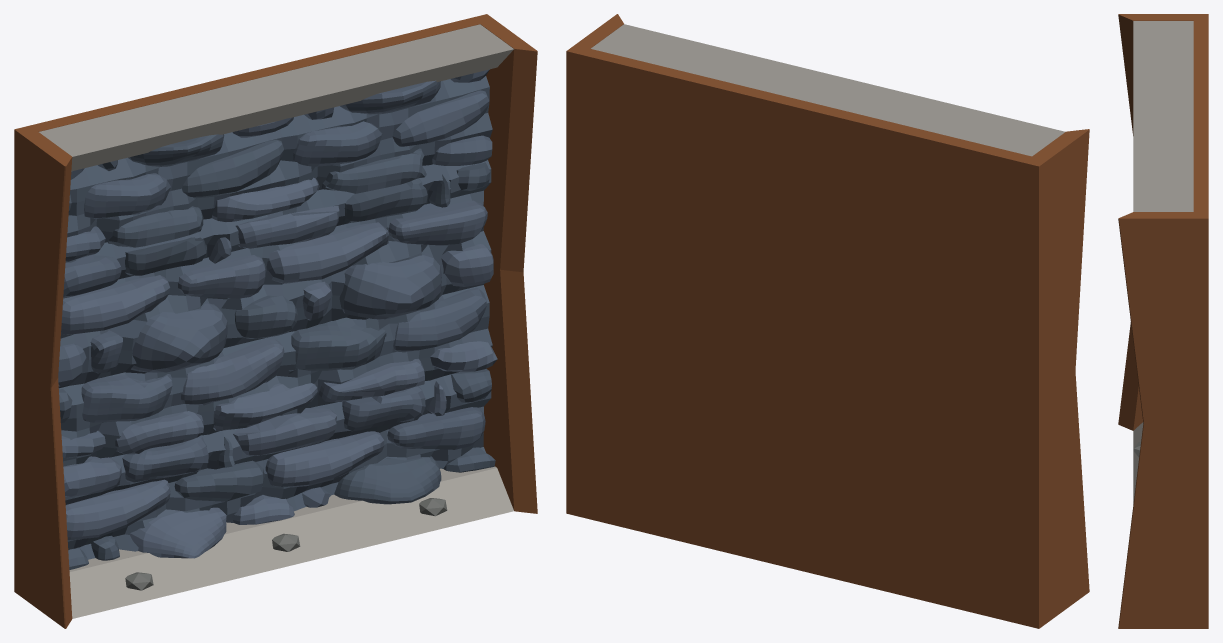
Rendered from Wall.glb.
3 renders of one model, left to right at view 1: azimuth 30°, elevation 25°; view 2: azimuth 150°, elevation 25°; view 3: azimuth 270°, elevation 25°, orthographic. The views are drawn at different scales.
Parts seen in each view (by area): view 1: Cube.074, Cube.075, Cube.003, Cube.009, Cube.002, Cube.001, Cube.005, Cube.066, Cube.060, Cube.038, Cube.048, Cube.061 (+44 smaller); view 2: Cube.001, Cube.075, Cube.002, Cube.005; view 3: Cube.003, Cube.001, Cube.002, Cube.005, Cube.075, Cube.009.
Part boxes in pixels (x1,y1,x2,y2): Cube.074: [58, 76, 492, 559]; Cube.075: [22, 132, 72, 628]; Cube.003: [480, 20, 537, 513]; Cube.009: [69, 468, 513, 618]; Cube.002: [56, 37, 513, 171]; Cube.001: [14, 14, 495, 597]; Cube.005: [39, 24, 496, 144]; Cube.066: [339, 253, 441, 319]; Cube.060: [131, 302, 227, 372]; Cube.038: [266, 222, 388, 283]; Cube.048: [265, 431, 384, 487]; Cube.061: [61, 275, 170, 334]; Cube.001: [566, 45, 1047, 628]; Cube.075: [1032, 129, 1089, 622]; Cube.002: [607, 24, 1065, 144]; Cube.005: [591, 36, 1048, 156]; Cube.003: [1118, 212, 1193, 628]; Cube.001: [1193, 14, 1208, 628]; Cube.002: [1133, 21, 1163, 211]; Cube.005: [1163, 21, 1193, 211]; Cube.075: [1118, 14, 1193, 430]; Cube.009: [1133, 422, 1143, 503].
Size of the model in its own units: 6.42 by 6 by 1.2.
